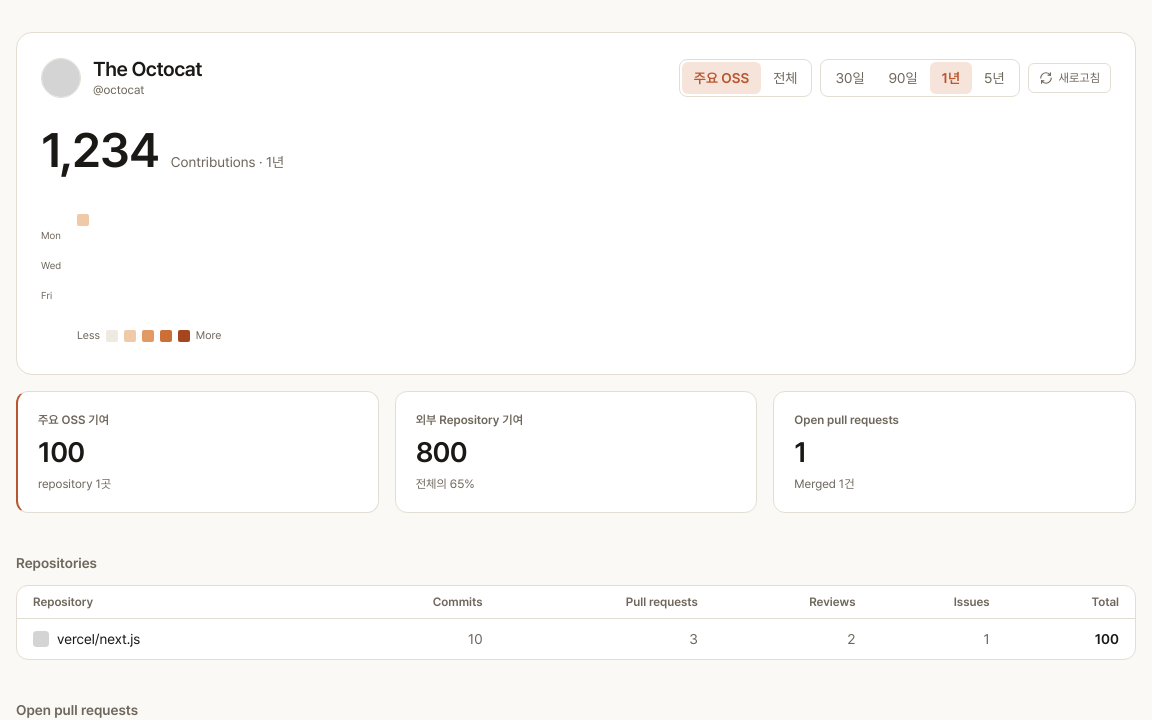
Test: 조회 조건 바꾸기 › 보기 범위 전환은 받아 둔 목록을 그 자리에서 걸러낼 뿐이다
This screenshot has width=1152, height=720.
Click the link "전체" at (785, 78), box [773,70,797,86]
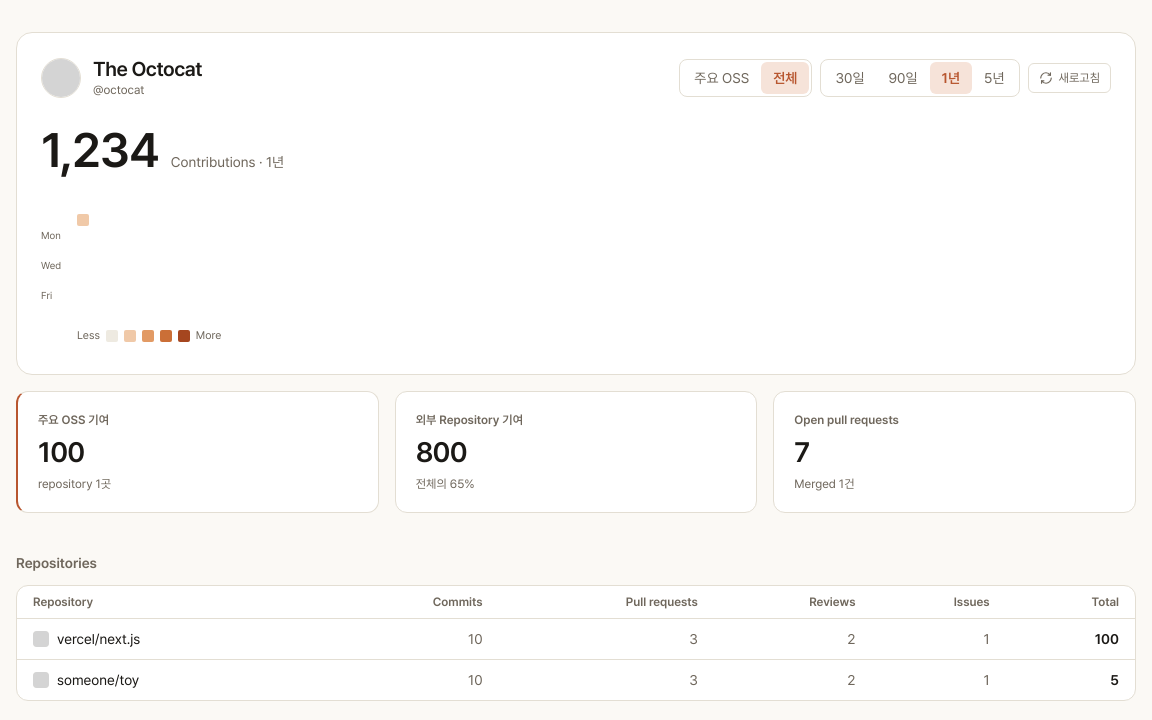
Expected: the link "someone/toy" is shown, [57,670,139,690]
